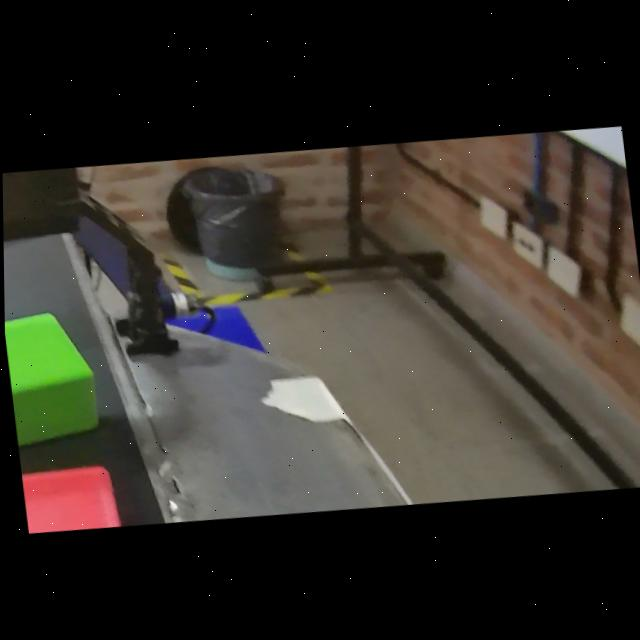greenBox: (3, 300, 112, 457)
redBox: (20, 456, 136, 536)
